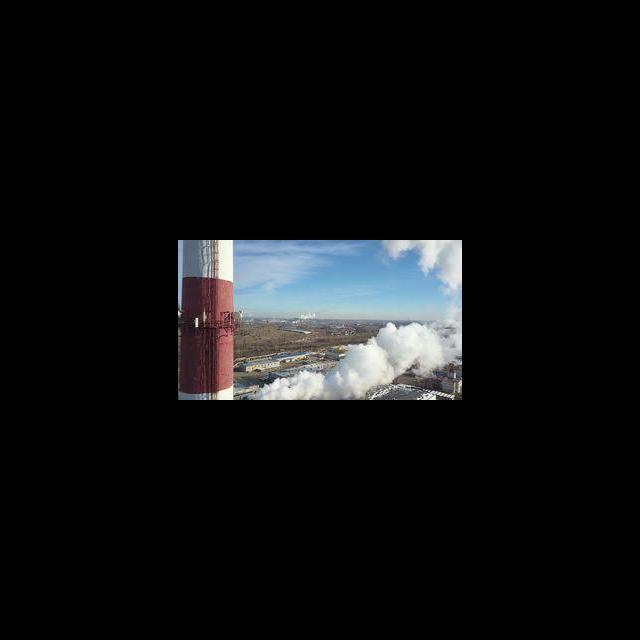Smoke: (360, 328, 460, 382), (382, 242, 462, 279), (276, 366, 364, 399)
